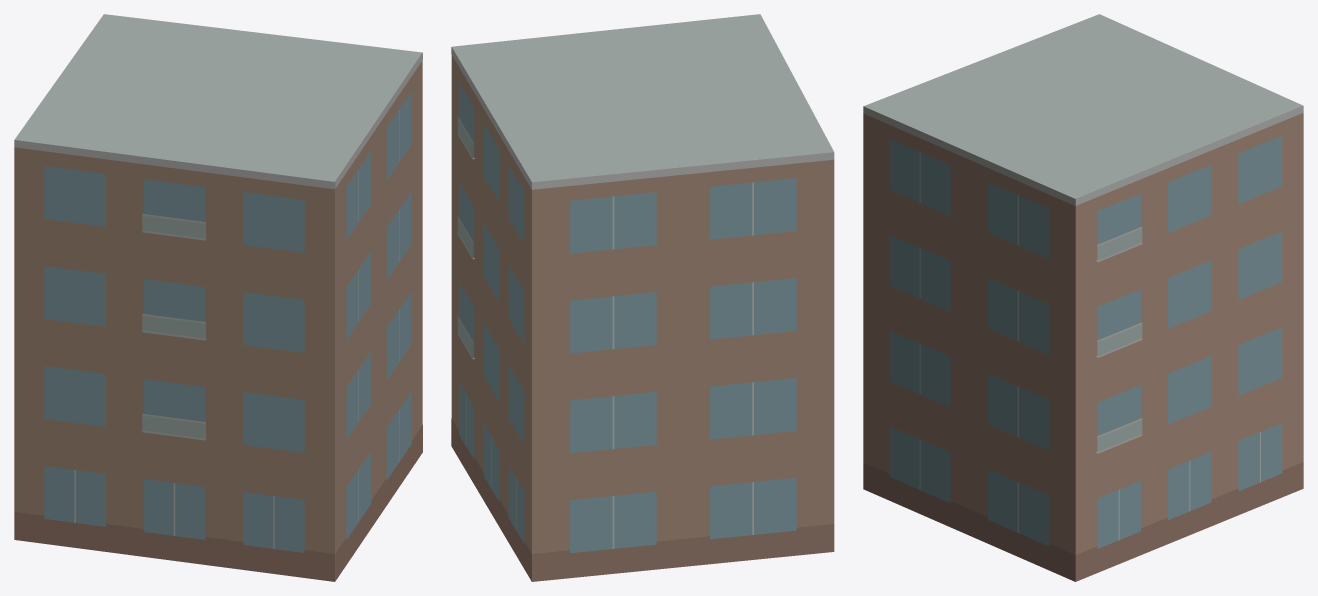
File: survey-upis-32909974.glb
3 views of the same model, side by side, from view 1: azimuth 30°, elevation 25°; view 2: azimuth 150°, elevation 25°; view 3: azimuth 270°, elevation 25° (orthographic). The views are drawn at different scales.
Visible parts, largest first — view 1: survey-upis-32909974.tmp; view 2: survey-upis-32909974.tmp; view 3: survey-upis-32909974.tmp.
Boxes of the visible parts, bbox=[...] form: survey-upis-32909974.tmp: bbox=[14, 14, 422, 581]; survey-upis-32909974.tmp: bbox=[451, 14, 834, 581]; survey-upis-32909974.tmp: bbox=[863, 14, 1303, 581].
Size of the model in its own units: 13.68 by 13.2 by 13.76.
